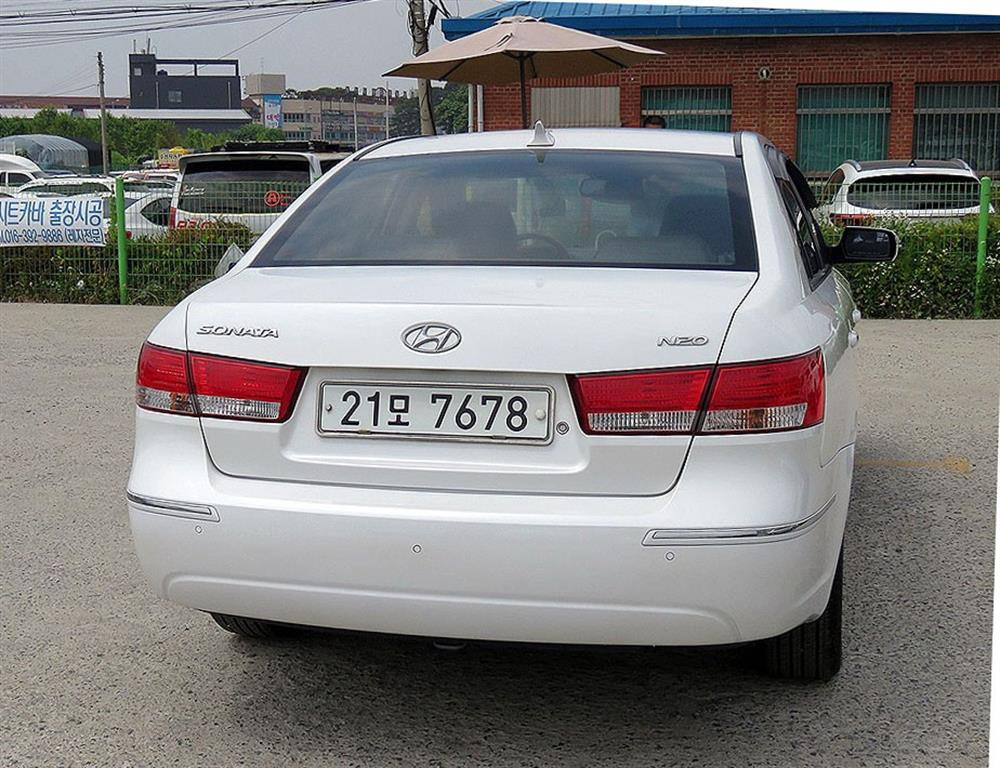plate: (321, 385, 549, 439)
